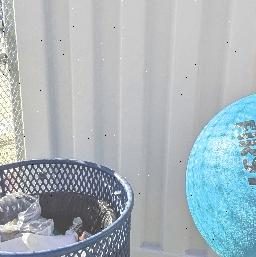algae: (187, 89, 256, 257)
